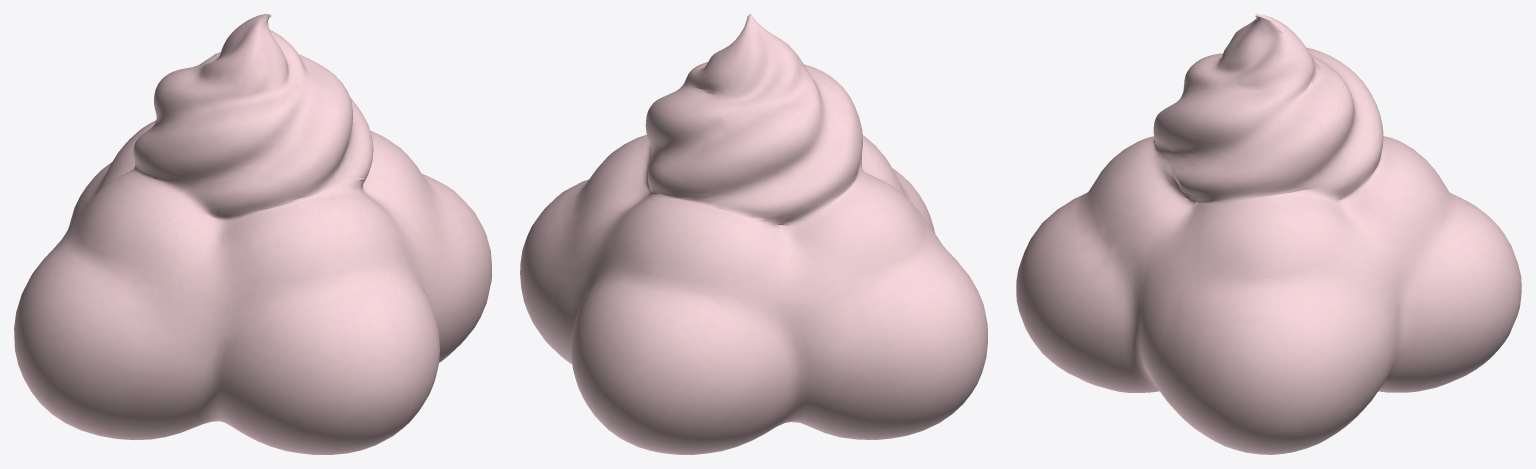
The model's file is cream-puff.glb.
3 renders of one model, left to right at view 1: azimuth 30°, elevation 25°; view 2: azimuth 150°, elevation 25°; view 3: azimuth 270°, elevation 25°, orthographic. The views are drawn at different scales.
Parts seen in each view (by area): view 1: Mesh_0; view 2: Mesh_0; view 3: Mesh_0.
Boxes of the visible parts, x1,y1,x2,y2 form: Mesh_0: (14,14,491,454); Mesh_0: (520,14,987,454); Mesh_0: (1016,14,1521,454).
Bounding box in the file's own units: 1.22 × 1 × 1.22.
1 material, 1 textured.
